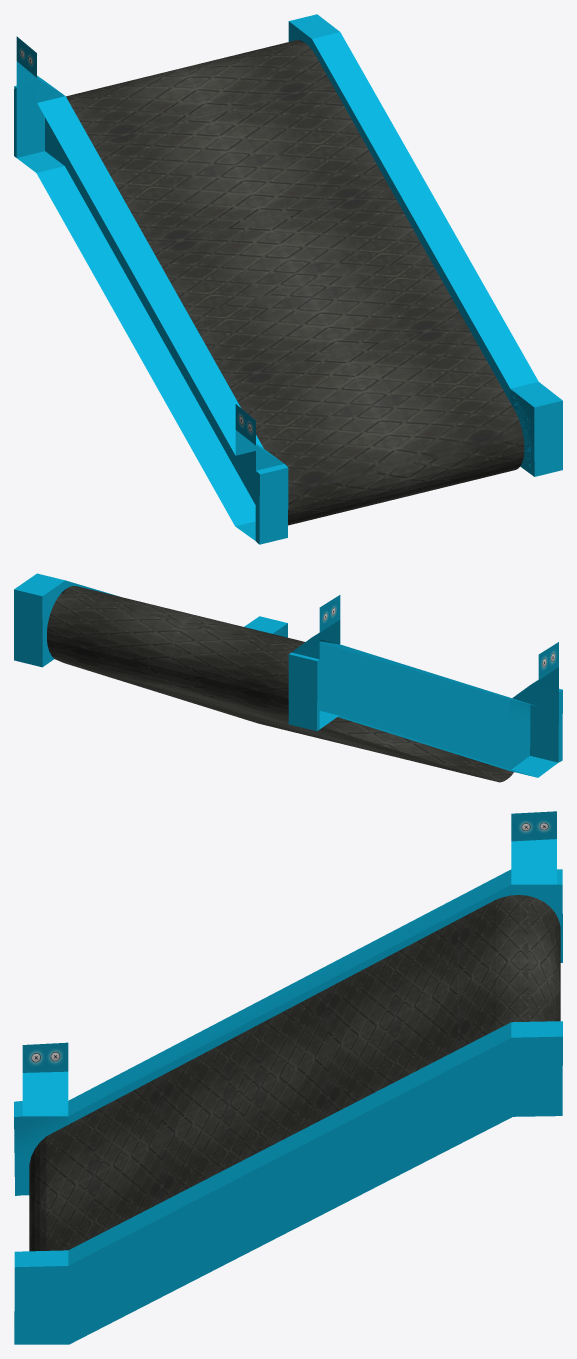
Rendered from Band20.fbx.
3 renders of one model, top to bottom at view 1: azimuth 30°, elevation 25°; view 2: azimuth 150°, elevation 25°; view 3: azimuth 270°, elevation 25°, orthographic. The views are drawn at different scales.
Parts seen in each view (by area): view 1: Cylinder.000, Cube.001, Cube.000; view 2: Cylinder.000, Cube.001, Cube.000; view 3: Cylinder.000, Cube.000, Cube.001.
Part boxes in pixels (x1=…): Cylinder.000: x1=66, y1=40, x2=524, y2=525; Cube.001: x1=14, y1=36, x2=288, y2=544; Cube.000: x1=288, y1=14, x2=562, y2=476; Cylinder.000: x1=47, y1=586, x2=513, y2=782; Cube.001: x1=288, y1=595, x2=562, y2=777; Cube.000: x1=14, y1=573, x2=287, y2=667; Cylinder.000: x1=29, y1=895, x2=560, y2=1251; Cube.000: x1=14, y1=1021, x2=562, y2=1344; Cube.001: x1=14, y1=811, x2=562, y2=1195.
Bounding box in the file's own units: 1.43 × 1.52 × 2.
Materials: 1 (1 with a texture image).
